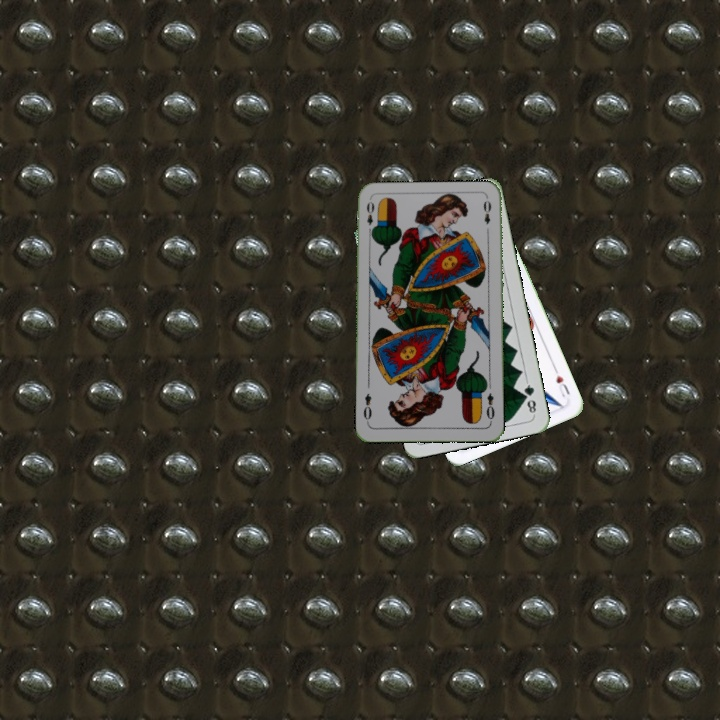EO: (363, 197, 377, 237), (482, 389, 497, 425)
G8: (519, 377, 539, 418)
HU: (550, 364, 572, 400)
